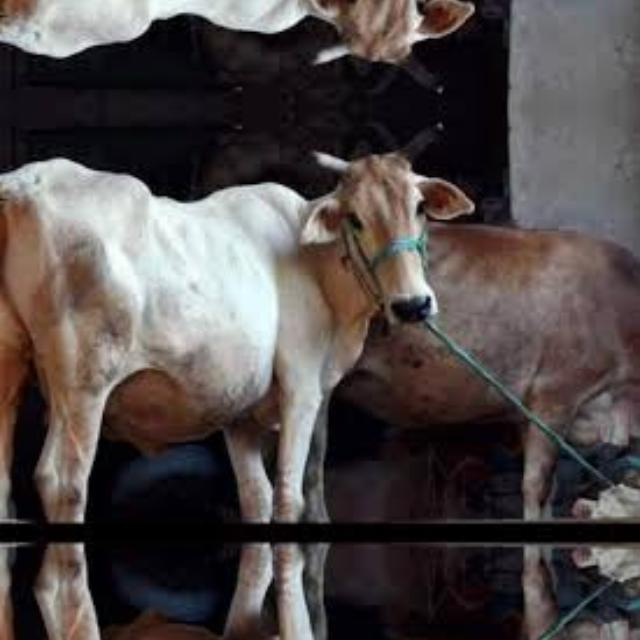person: (2, 119, 466, 533), (2, 533, 466, 640), (2, 0, 466, 95)
